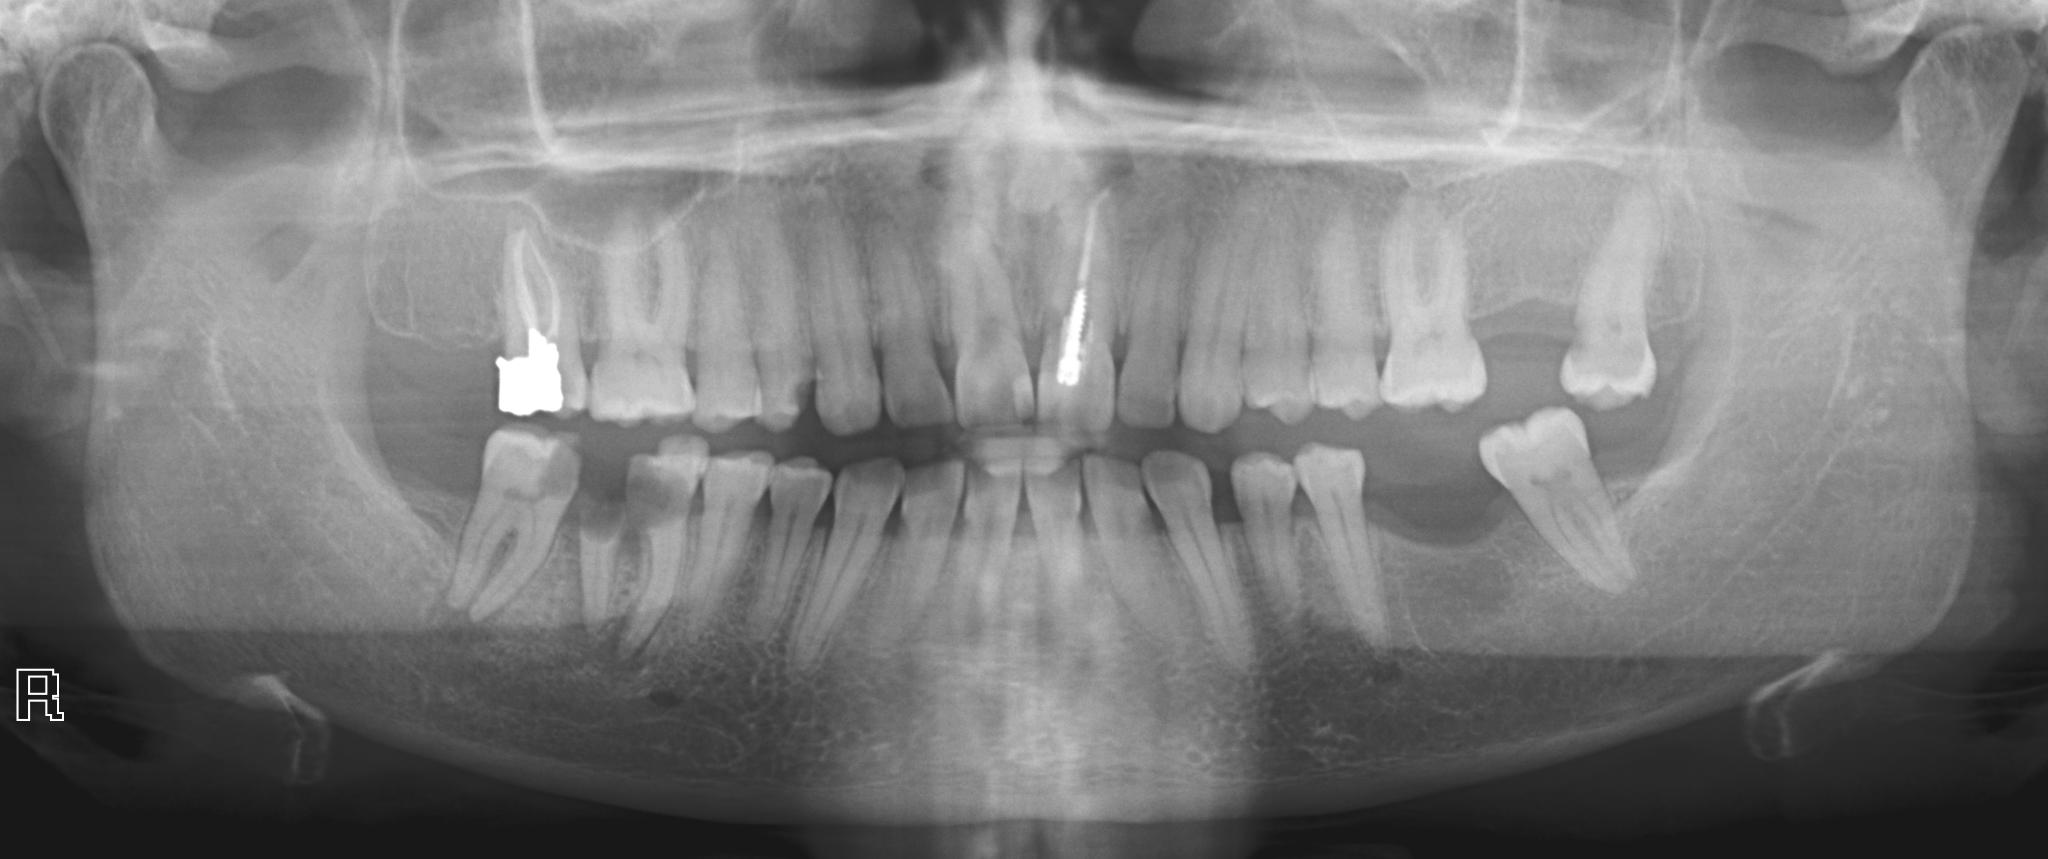Fillings: (448, 426, 586, 625)
Implant: (486, 217, 598, 422), (1027, 188, 1122, 423)
